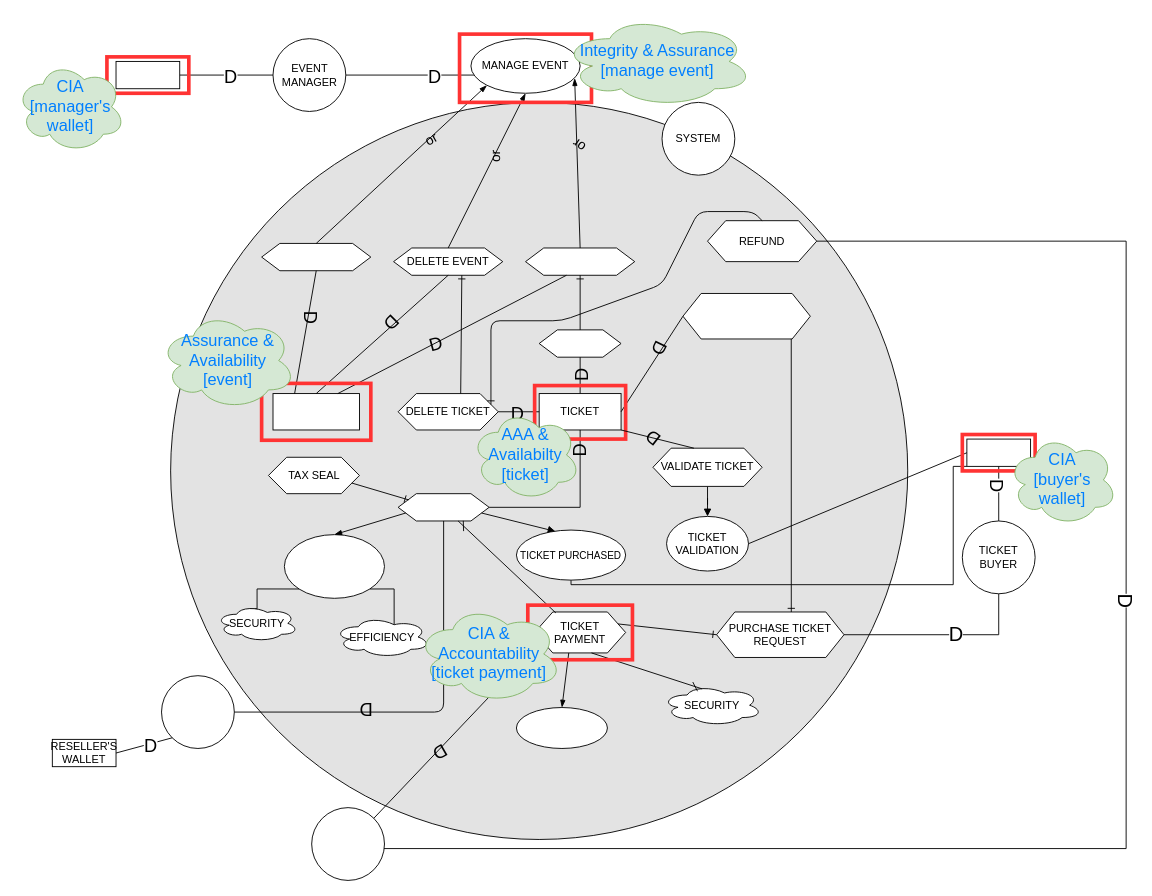
Some shapes in this 1152 by 896 pixel diagram are drawn without their labels. The centre of each missing label's shape, as x and y in pixels:
"ASSOCIATE TICKET" belongs at (579,343).
"BUYER'S WALLET" belongs at (998,452).
"CREATE EVENT" belongs at (580,261).
"CREDIT CARD MANAGER" belongs at (347,843).
"EMISSION TICKET" belongs at (443,507).
"EVENT" belongs at (315,411).
"MANAGER'S WALLET" belongs at (147,75).
"MODIFY EVENT" belongs at (316,257).
"TICKET AVAILABILITY CHECK" belongs at (746,316).
"TICKET BE EMITTED" belongs at (333,566).
"TICKET BE PAID" belongs at (561,727).
"TICKET RESELLER" belongs at (197,711).
